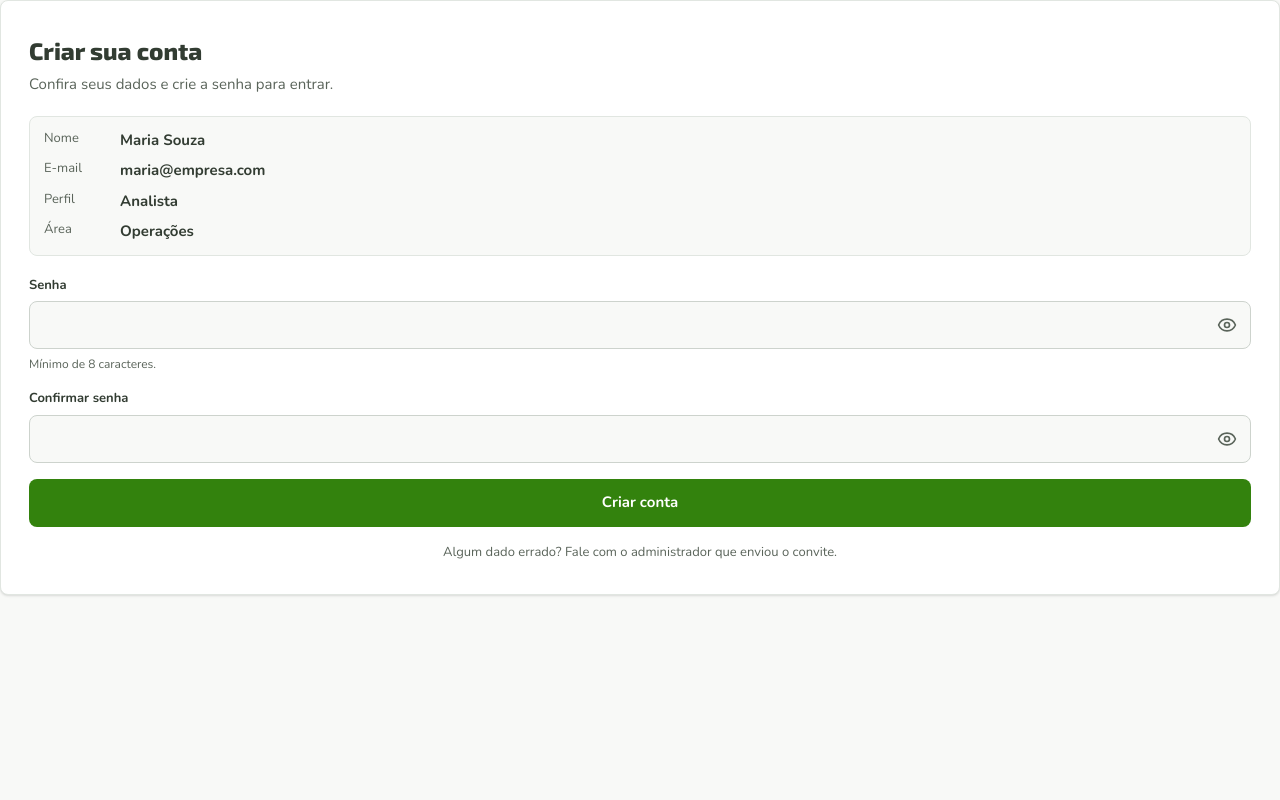
Test case: AcceptInvitation › shows the 422 password message on the password field
Expected: the heading "Criar sua conta" is shown, [29,36,202,65]
Type "secret-123" into the password field labelled "Senha" at (640, 325), box [29,301,1251,349]
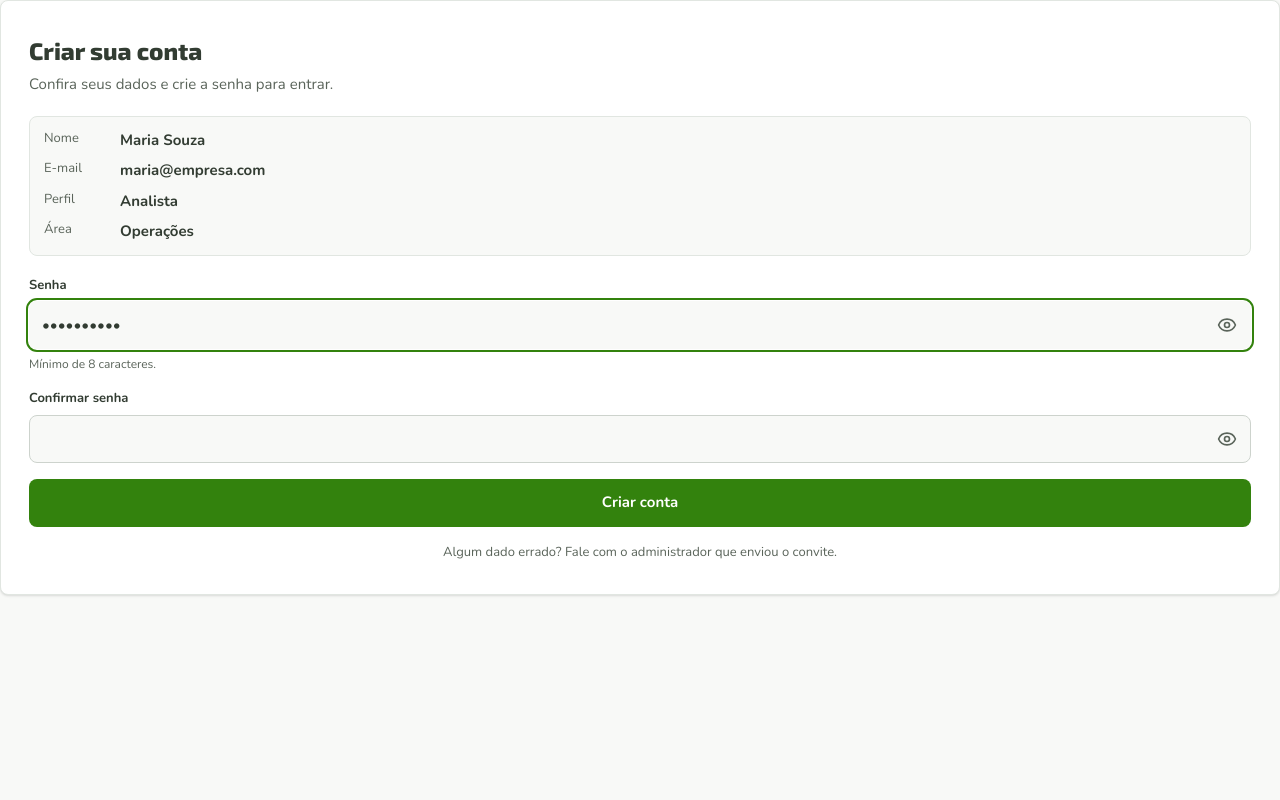
Type "secret-123" into the password field labelled "Confirmar senha" at (640, 438), box [29,414,1251,462]
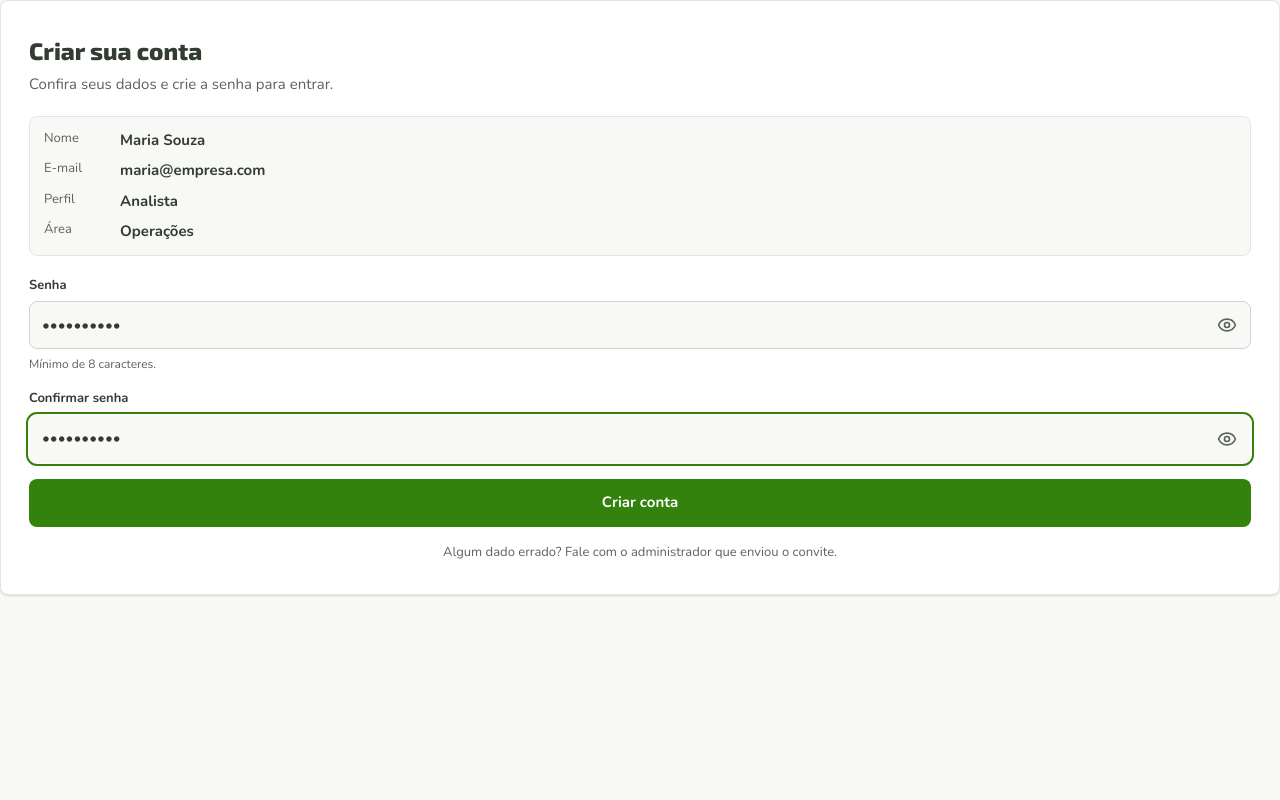
Click the button "Criar conta" at (640, 502), box [29,478,1251,526]
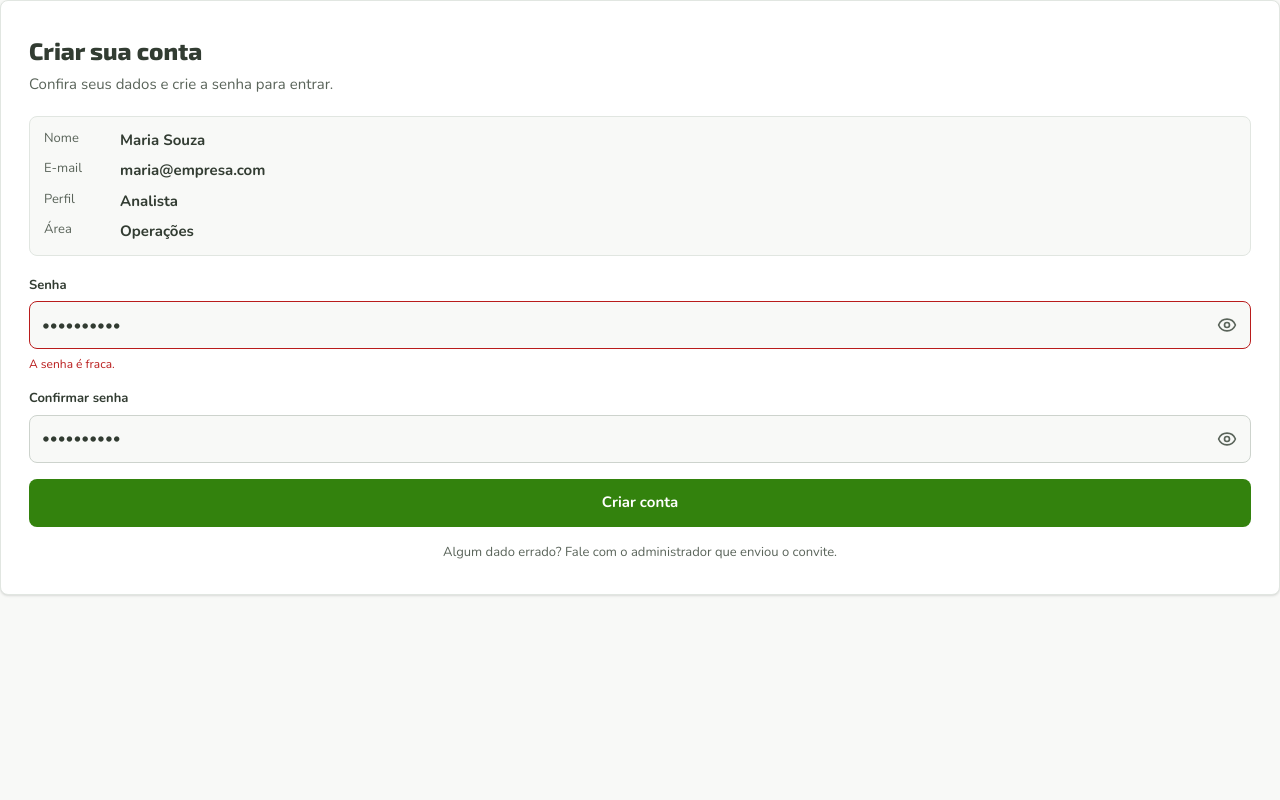
Expected: the text "A senha é fraca." is shown, [29,356,115,372]
